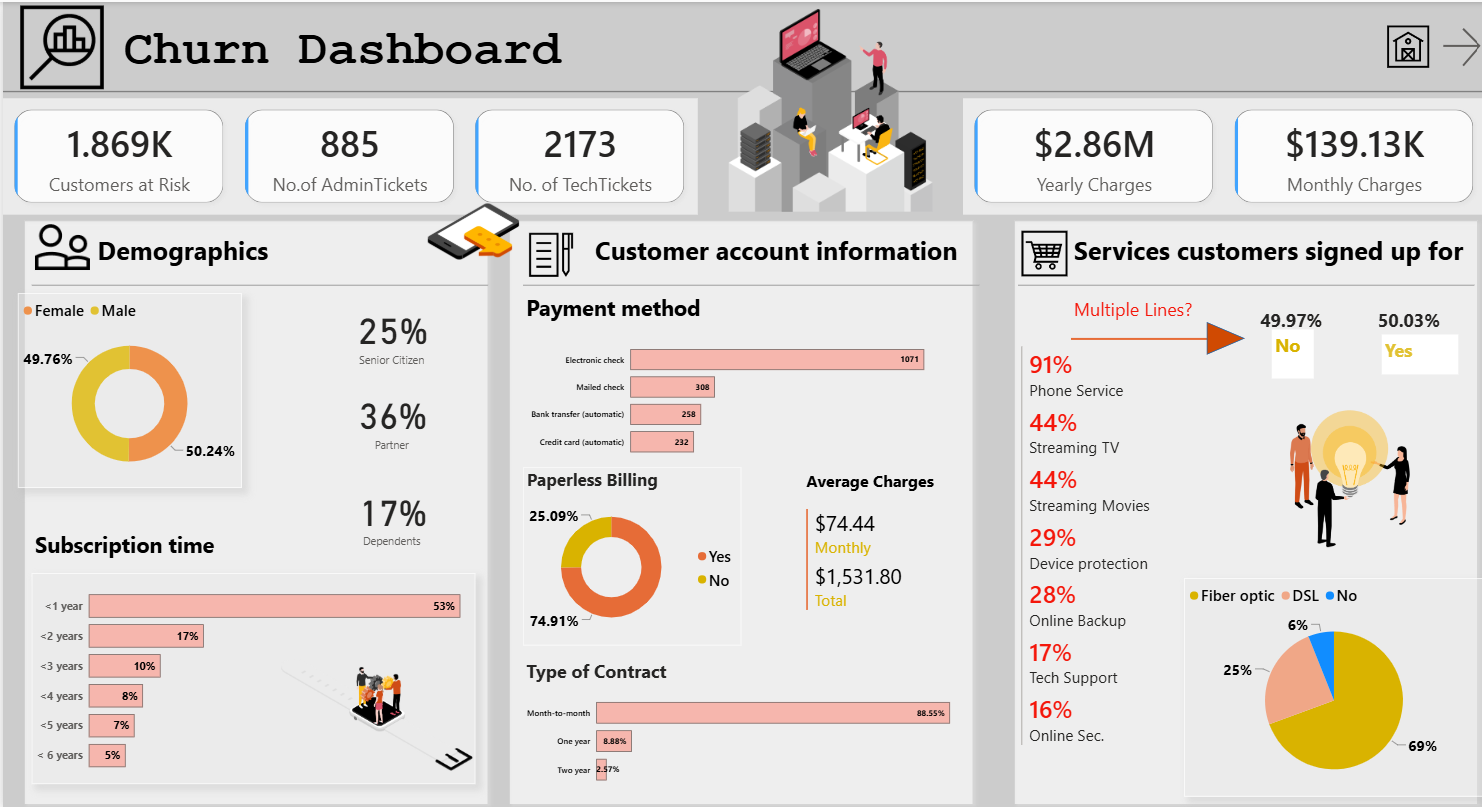

What the dashboard file says about the page in this screenshot:
{"tool":"powerbi","page":{"name":"churn dashboard","canvas":[2200,1200],"ordinal":1},"visuals":[{"type":"textbox","box":[175,26.5,1108.1,108.7],"z":0},{"type":"shape","box":[0,126.8,2199.5,13.5],"z":1000},{"type":"image","box":[0,0,175.4,134.9],"z":2000},{"type":"cardVisual","fields":{"Data":["CountNonNull(01 Churn-Dataset.customerID)","Sum(01 Churn-Dataset.numAdminTickets)","Sum(01 Churn-Dataset.numTechTickets)"]},"box":[0,143,1030.9,172.7],"z":3000},{"type":"image","box":[1030.9,5.4,394,310.4],"z":4000},{"type":"cardVisual","fields":{"Data":["Sum(01 Churn-Dataset.TotalCharges)","Sum(01 Churn-Dataset.MonthlyCharges)"]},"box":[1424.9,143,774.5,172.7],"z":5000},{"type":"shape","box":[21.6,315.7,707.1,885.2],"z":6000},{"type":"shape","box":[742.1,315.7,707.1,885.2],"z":7000},{"type":"shape","box":[1492.4,315.7,707.1,885.2],"z":8000},{"type":"image","box":[43.2,315.7,91.8,97.2],"z":9000},{"type":"shape","box":[43.2,412.9,677.4,13.5],"z":10000},{"type":"shape","box":[1505.9,412.9,677.4,13.5],"z":11000},{"type":"shape","box":[771.8,412.9,677.4,13.5],"z":12000},{"type":"textbox","box":[134.9,337.3,323.8,75.6],"z":13000},{"type":"donutChart","fields":{"Category":["01 Churn-Dataset.gender"],"Y":["CountNonNull(01 Churn-Dataset.gender)"]},"box":[21.6,431.8,331.9,288.8],"z":14000},{"type":"clusteredBarChart","fields":{"Category":["01 Churn-Dataset.Subscription"],"Y":["CountNonNull(01 Churn-Dataset.Churn)"]},"box":[43.2,847.4,658.5,313.1],"z":15000},{"type":"image","box":[407.5,955.3,294.2,205.1],"z":16000},{"type":"textbox","box":[43.2,779.9,434.5,67.5],"z":17000},{"type":"image","box":[771.8,337.3,83.7,75.6],"z":18000},{"type":"textbox","box":[874.4,337.3,574.8,75.6],"z":19000},{"type":"image","box":[1505.9,315.7,78.3,116],"z":20000},{"type":"textbox","box":[1584.1,337.3,599.1,75.6],"z":21000},{"type":"image","box":[626.1,267.2,145.7,145.7],"z":22000},{"type":"clusteredBarChart","fields":{"Category":["01 Churn-Dataset.PaymentMethod"],"Y":["CountNonNull(01 Churn-Dataset.PaymentMethod)"]},"box":[777.2,485.8,647.7,205.1],"z":23000},{"type":"textbox","box":[771.8,426.4,305,59.4],"z":24000},{"type":"donutChart","title":"Paperless Billing","fields":{"Category":["01 Churn-Dataset.PaperlessBilling"],"Y":["CountNonNull(01 Churn-Dataset.PaperlessBilling)"]},"box":[771.8,690.9,323.8,264.5],"z":25000},{"type":"clusteredBarChart","title":"Type of Contract","fields":{"Category":["01 Churn-Dataset.Contract"],"Y":["CountNonNull(01 Churn-Dataset.Contract)"]},"box":[771.8,974.2,647.7,205.1],"z":26000},{"type":"multiRowCard","fields":{"Values":["Avg(01 Churn-Dataset.MonthlyCharges)","Avg(01 Churn-Dataset.TotalCharges)"]},"box":[1187.4,747.5,232.1,199.7],"z":27000},{"type":"textbox","box":[1187.4,690.9,237.5,56.7],"z":28000},{"type":"multiRowCard","fields":{"Values":["Churn.Phone Service in %","Churn.Streaming TV in %","Churn.Streaming Movies in %","Churn.Device protection in %","Churn.Online Bacup in %","Churn.Tech Support in %","Churn.Online Sec. in %"]},"box":[1505.9,507.4,248.3,693.6],"z":29000},{"type":"pieChart","fields":{"Category":["Churn.InternetService"],"Y":["CountNonNull(Churn.InternetService)"]},"box":[1754.2,855.5,445.3,323.8],"z":30000},{"type":"image","box":[1843.2,601.8,313.1,213.2],"z":31000},{"type":"textbox","box":[1584.1,431.8,229.4,54],"z":32000},{"type":"basicShape","box":[1576,472.3,237.5,54],"z":33000},{"type":"shape","box":[1786.5,475,56.7,48.6],"z":34000},{"type":"card","fields":{"Values":["Churn.Multiple lines no in %"]},"box":[1845.9,426.4,132.2,91.8],"z":35000},{"type":"card","fields":{"Values":["Churn.Multiple Lines yes in %"]},"box":[2002.4,426.4,170,91.8],"z":36000},{"type":"textbox","box":[1883.7,485.8,62.1,72.9],"z":37000},{"type":"textbox","box":[2045.6,493.9,113.3,59.4],"z":38000},{"type":"card","fields":{"Values":["Churn.SeniorCitizen in %"]},"box":[477.7,431.8,205.1,121.4],"z":39000},{"type":"card","fields":{"Values":["Churn.Partner in %"]},"box":[477.7,558.6,205.1,121.4],"z":40000},{"type":"card","fields":{"Values":["Churn.Dependents in %"]},"box":[477.7,701.7,205.1,121.4],"z":41000},{"type":"actionButton","box":[2130.4,27.1,70.6,78.7],"z":42000},{"type":"image","box":[2040.8,29.9,89.6,73.3],"z":43000}]}

Visuals, with their boxes in screenshot pixels (x1, y1, x2, y2), scaled from the page's 2200x1200 canvas onto the 1482x807 screenshot:
textbox: bbox=[118, 18, 864, 91]
shape: bbox=[0, 85, 1481, 94]
image: bbox=[0, 0, 118, 91]
cardVisual - CountNonNull(01 Churn-Dataset.customerID) x Sum(01 Churn-Dataset.numAdminTickets): bbox=[0, 96, 694, 212]
image: bbox=[694, 4, 960, 212]
cardVisual - Sum(01 Churn-Dataset.TotalCharges) x Sum(01 Churn-Dataset.MonthlyCharges): bbox=[960, 96, 1481, 212]
shape: bbox=[15, 212, 491, 806]
shape: bbox=[500, 212, 976, 806]
shape: bbox=[1005, 212, 1481, 806]
image: bbox=[29, 212, 91, 278]
shape: bbox=[29, 278, 485, 287]
shape: bbox=[1014, 278, 1471, 287]
shape: bbox=[520, 278, 976, 287]
textbox: bbox=[91, 227, 309, 278]
donutChart - 01 Churn-Dataset.gender x CountNonNull(01 Churn-Dataset.gender): bbox=[15, 290, 238, 485]
clusteredBarChart - 01 Churn-Dataset.Subscription x CountNonNull(01 Churn-Dataset.Churn): bbox=[29, 570, 473, 780]
image: bbox=[275, 642, 473, 780]
textbox: bbox=[29, 524, 322, 570]
image: bbox=[520, 227, 576, 278]
textbox: bbox=[589, 227, 976, 278]
image: bbox=[1014, 212, 1067, 290]
textbox: bbox=[1067, 227, 1471, 278]
image: bbox=[422, 180, 520, 278]
clusteredBarChart - 01 Churn-Dataset.PaymentMethod x CountNonNull(01 Churn-Dataset.PaymentMethod): bbox=[524, 327, 960, 465]
textbox: bbox=[520, 287, 725, 327]
"Paperless Billing" donutChart: bbox=[520, 465, 738, 643]
"Type of Contract" clusteredBarChart: bbox=[520, 655, 956, 793]
multiRowCard - Avg(01 Churn-Dataset.MonthlyCharges) x Avg(01 Churn-Dataset.TotalCharges): bbox=[800, 503, 956, 637]
textbox: bbox=[800, 465, 960, 503]
multiRowCard - Churn.Phone Service in % x Churn.Streaming TV in %: bbox=[1014, 341, 1182, 806]
pieChart - Churn.InternetService x CountNonNull(Churn.InternetService): bbox=[1182, 575, 1481, 793]
image: bbox=[1242, 405, 1453, 548]
textbox: bbox=[1067, 290, 1222, 327]
basicShape: bbox=[1062, 318, 1222, 354]
shape: bbox=[1203, 319, 1242, 352]
card - Churn.Multiple lines no in %: bbox=[1243, 287, 1333, 348]
card - Churn.Multiple Lines yes in %: bbox=[1349, 287, 1463, 348]
textbox: bbox=[1269, 327, 1311, 376]
textbox: bbox=[1378, 332, 1454, 372]
card - Churn.SeniorCitizen in %: bbox=[322, 290, 460, 372]
card - Churn.Partner in %: bbox=[322, 376, 460, 457]
card - Churn.Dependents in %: bbox=[322, 472, 460, 554]
actionButton: bbox=[1435, 18, 1481, 71]
image: bbox=[1375, 20, 1435, 69]
